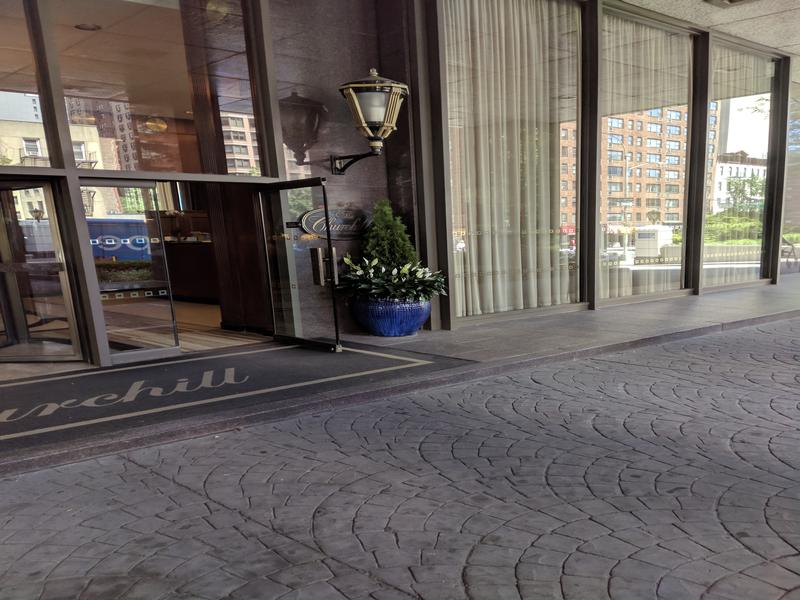door: (257, 176, 349, 355)
